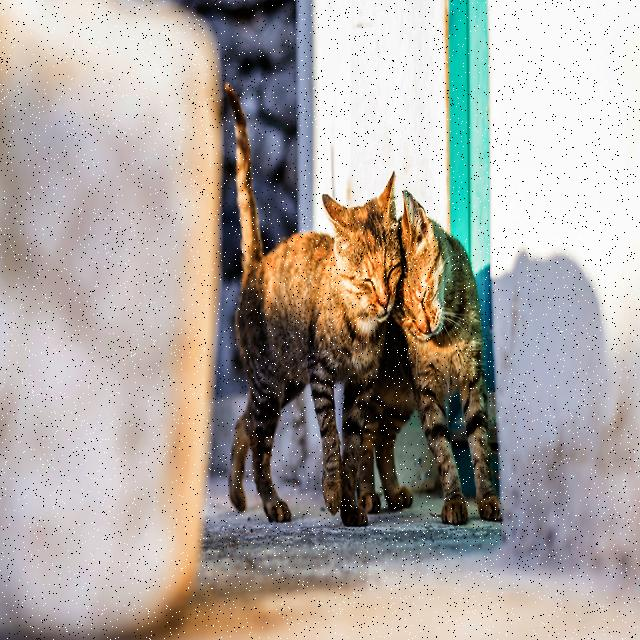cat: (225, 84, 401, 526), (358, 190, 500, 523)
